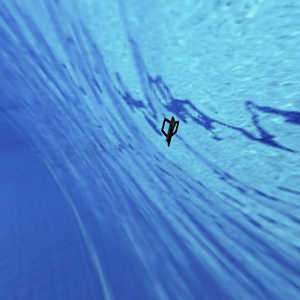submarine: (144, 99, 190, 156)
